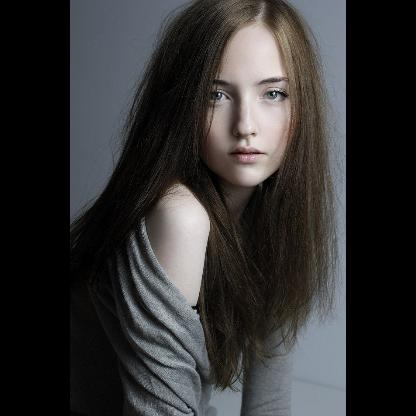Female: (198, 20, 294, 186)
